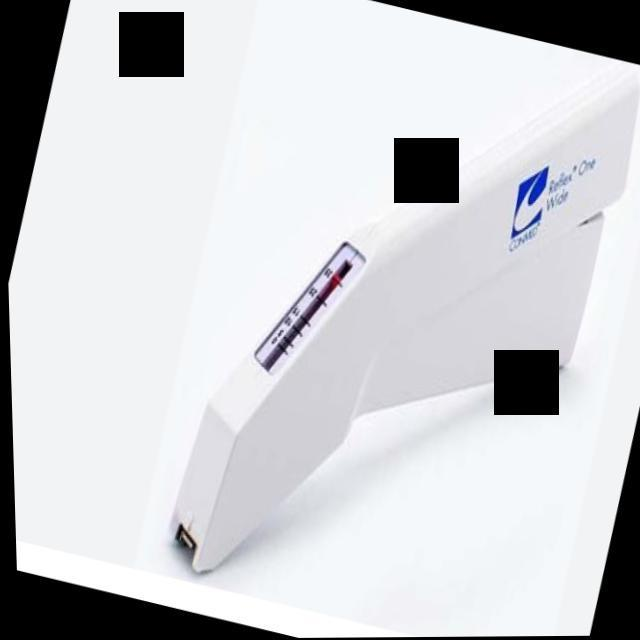Senn Retractor: (135, 0, 640, 639)
